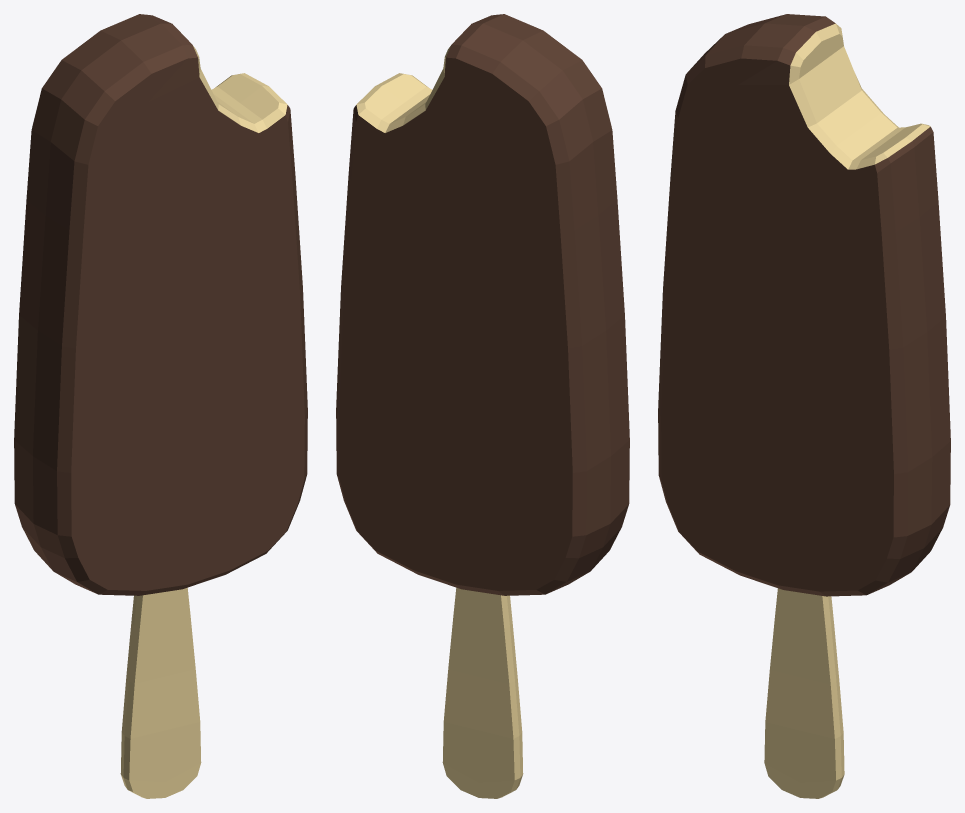
File: Ice-Cream_Magnum_B.fbx
3 renders of one model, left to right at view 1: azimuth 30°, elevation 25°; view 2: azimuth 150°, elevation 25°; view 3: azimuth 330°, elevation 25°, orthographic.
Visible parts, largest first — view 1: Ice-Cream_Magnum_B; view 2: Ice-Cream_Magnum_B; view 3: Ice-Cream_Magnum_B.
Boxes of the visible parts, left/top/right/bottom form: Ice-Cream_Magnum_B: left=14, top=14, right=307, bottom=798; Ice-Cream_Magnum_B: left=336, top=14, right=629, bottom=798; Ice-Cream_Magnum_B: left=658, top=14, right=950, bottom=798.
Size of the model in its own units: 4.5 by 12.96 by 1.64.
